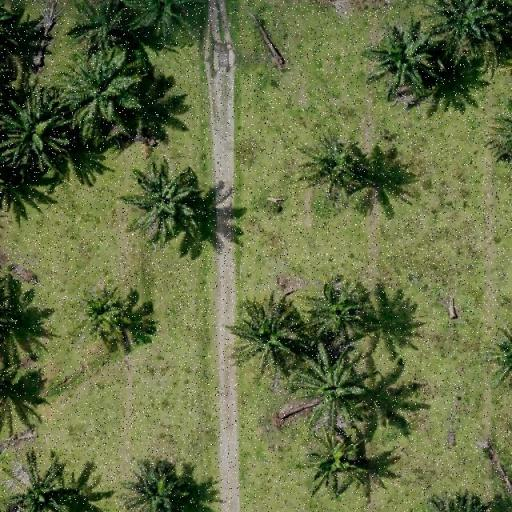Ganoderma: (310, 442, 360, 488), (308, 142, 360, 186), (80, 291, 128, 334)
